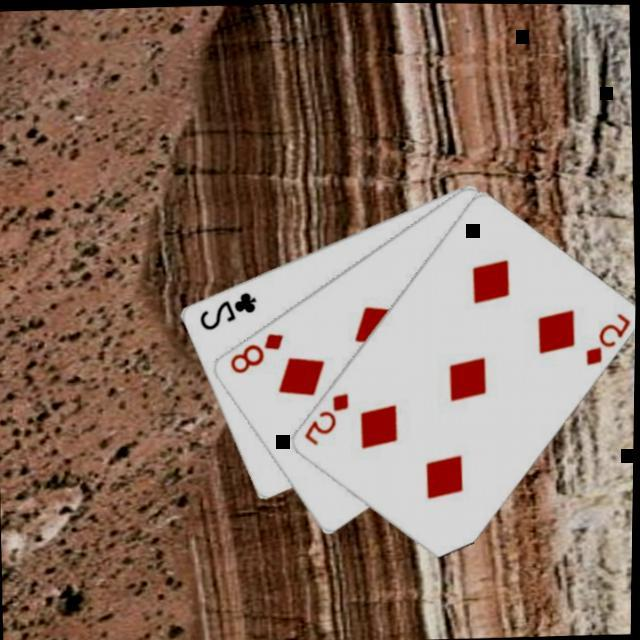2C: (196, 289, 262, 335)
5D: (300, 390, 355, 450), (581, 310, 636, 370)
8D: (226, 330, 290, 378)
